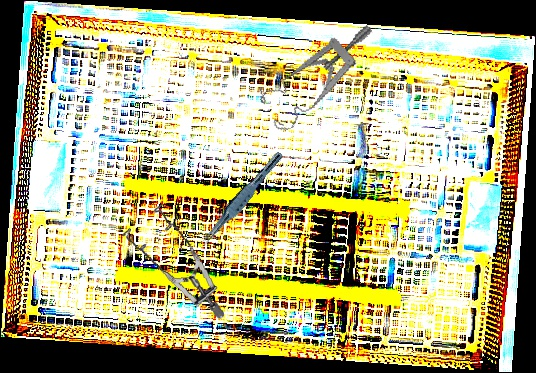Speculum: (248, 24, 394, 135), (118, 198, 225, 330)
Tissue Forceps: (198, 146, 285, 251)
